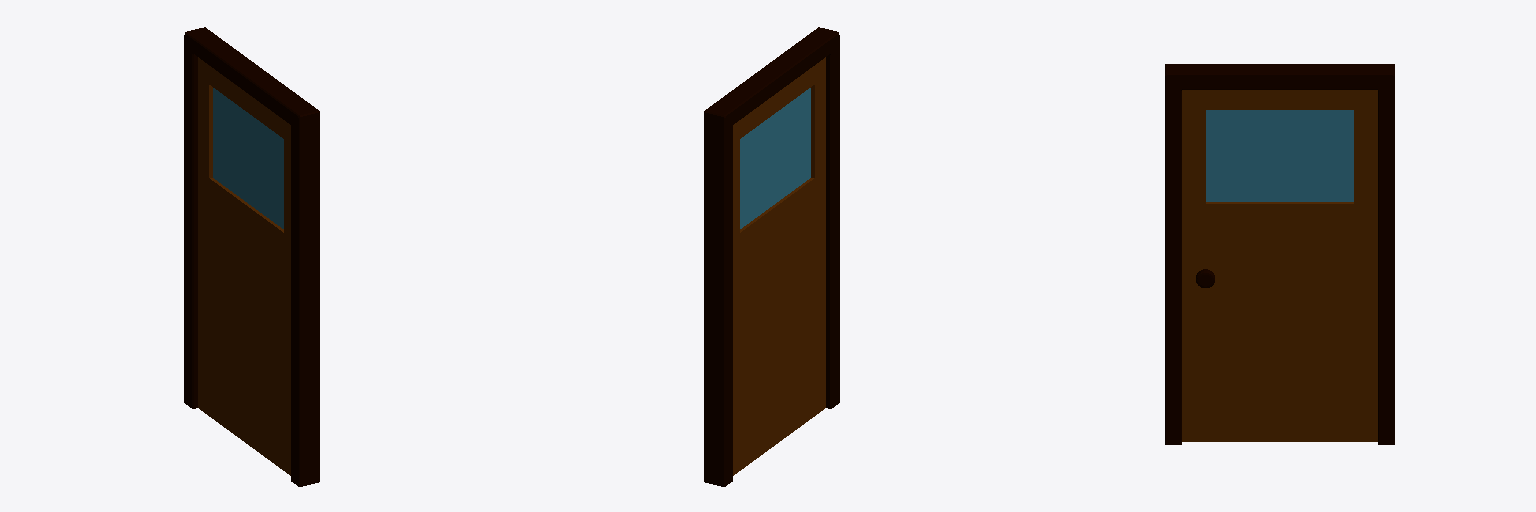
File: Door.obj
3 views of the same model, side by side, from view 1: azimuth 30°, elevation 25°; view 2: azimuth 150°, elevation 25°; view 3: azimuth 270°, elevation 25° (orthographic).
Parts seen in each view (by area): view 1: Door; view 2: Door; view 3: Door.
Boxes of the visible parts, box(x1,y1,x2,y2) form: Door: box(184, 27, 319, 486); Door: box(704, 27, 839, 486); Door: box(1165, 64, 1394, 444).
Size of the model in its own units: 5.62 by 69.31 by 39.08.